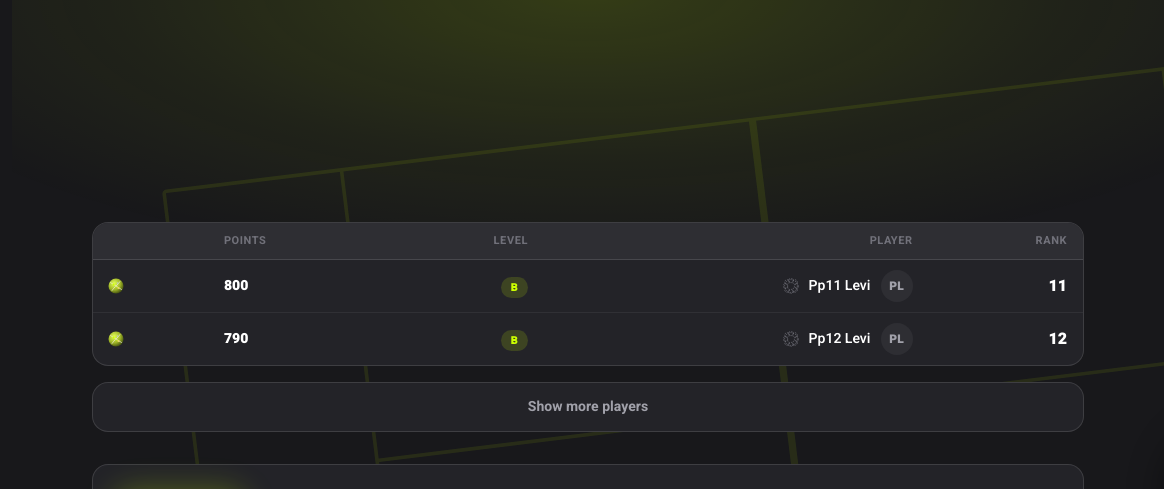
RankingPage load more › appends the next page under the table and retires the button on the last one
(page scrolled)
Click the button with test id "league-load-more" at x=588, y=407, box [92, 382, 1084, 432]
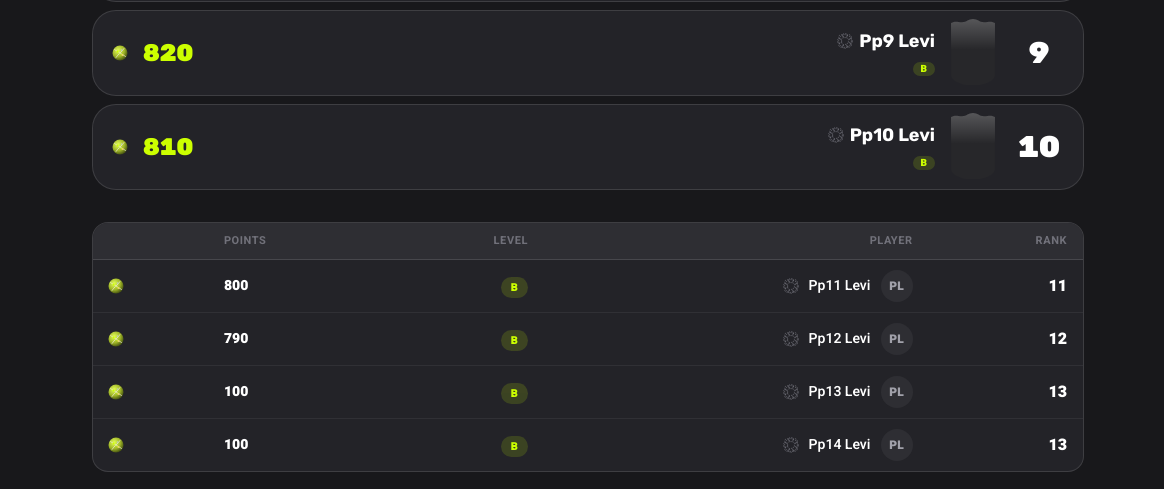
Expected: the elements with test id "standings-rank" read "11", "12", "13", "13", in this order, [924, 260, 1083, 313]; [924, 313, 1083, 366]; [924, 366, 1083, 419]; [924, 419, 1083, 471]
Expected: the button with test id "league-load-more" is gone
